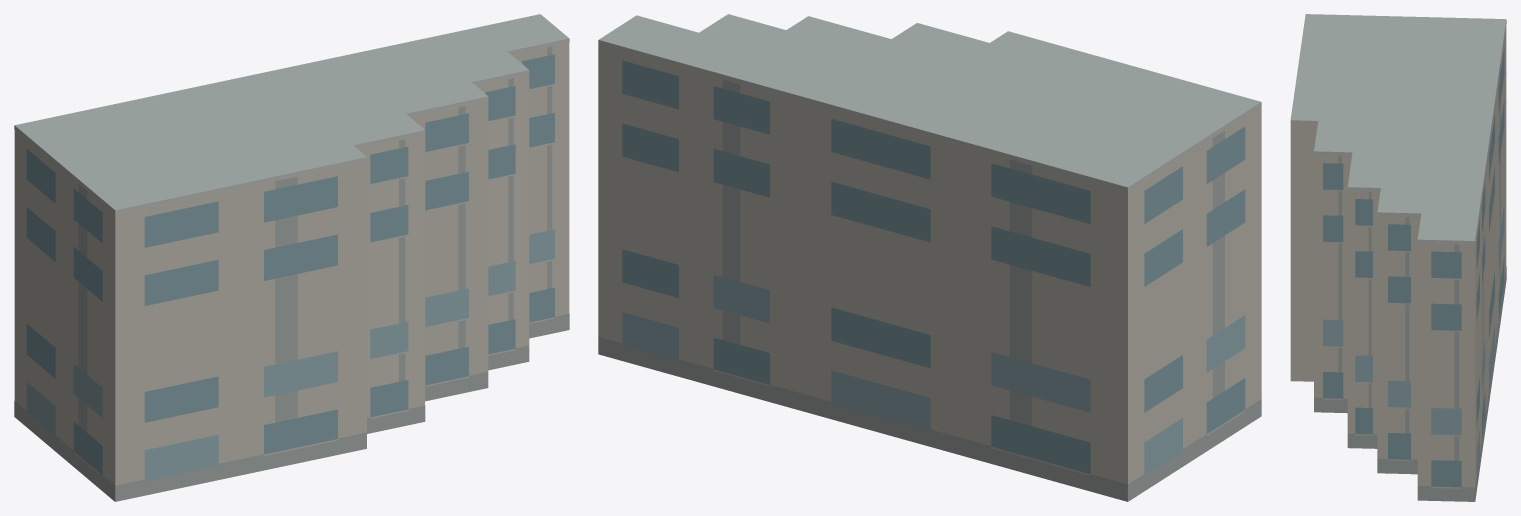
File: residential-331122db-ecec-4c37-b232-69caee024bce.glb
3 renders of one model, left to right at view 1: azimuth 30°, elevation 25°; view 2: azimuth 150°, elevation 25°; view 3: azimuth 270°, elevation 25°, orthographic. The views are drawn at different scales.
Parts seen in each view (by area): view 1: residential-331122db-ecec-4c37-b232-69caee024bce.tmp; view 2: residential-331122db-ecec-4c37-b232-69caee024bce.tmp; view 3: residential-331122db-ecec-4c37-b232-69caee024bce.tmp.
Boxes of the visible parts, x1,y1,x2,y2 form: residential-331122db-ecec-4c37-b232-69caee024bce.tmp: (14,14,569,501); residential-331122db-ecec-4c37-b232-69caee024bce.tmp: (598,14,1261,501); residential-331122db-ecec-4c37-b232-69caee024bce.tmp: (1290,14,1506,501).
Size of the model in its own units: 28.47 by 15.25 by 11.46.
